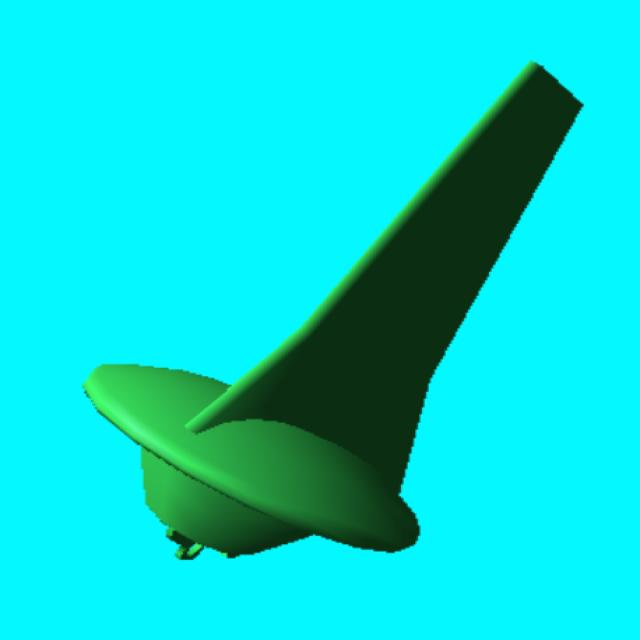GreenBuoy: (84, 64, 581, 558)
